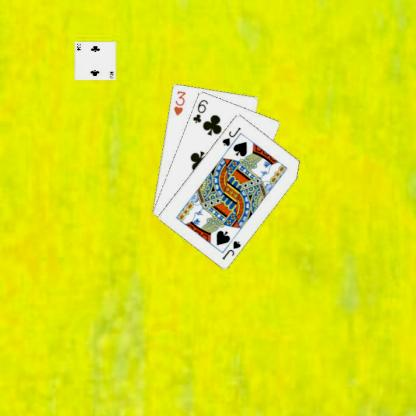3H: (171, 88, 187, 117)
6C: (190, 96, 209, 124)
JS: (219, 124, 242, 148), (219, 238, 243, 261)
